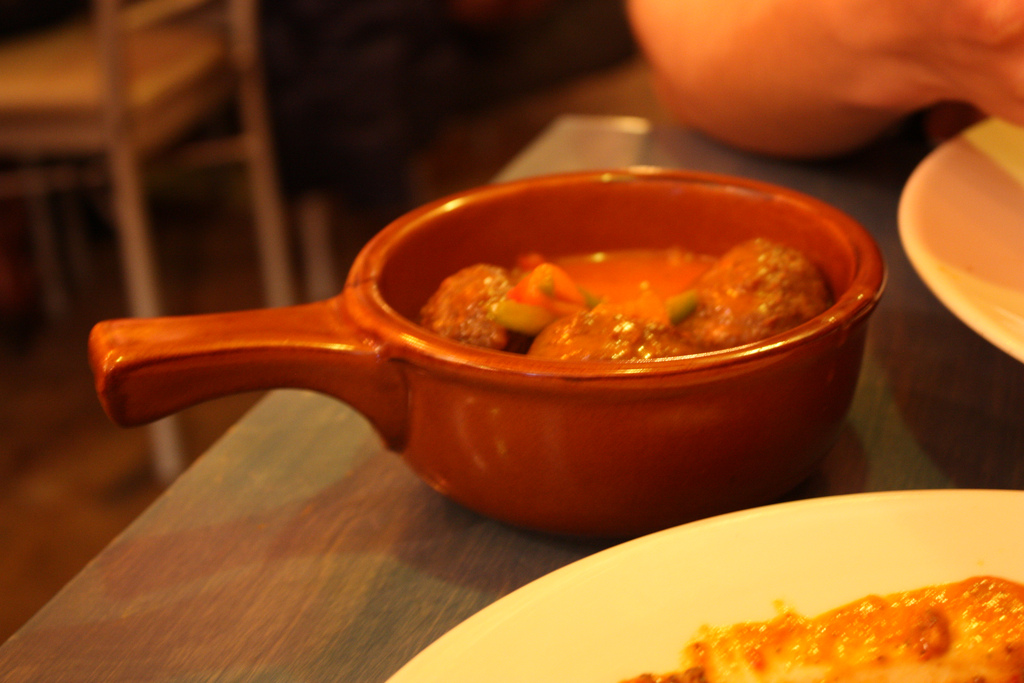meatballs: (683, 228, 817, 346), (419, 251, 525, 361)
